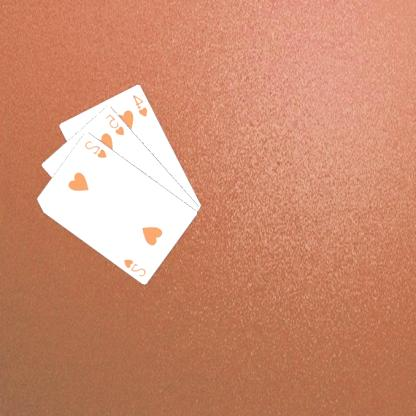2H: (83, 138, 110, 160), (122, 256, 149, 278)
4H: (131, 92, 151, 118)
5H: (104, 111, 128, 137)
